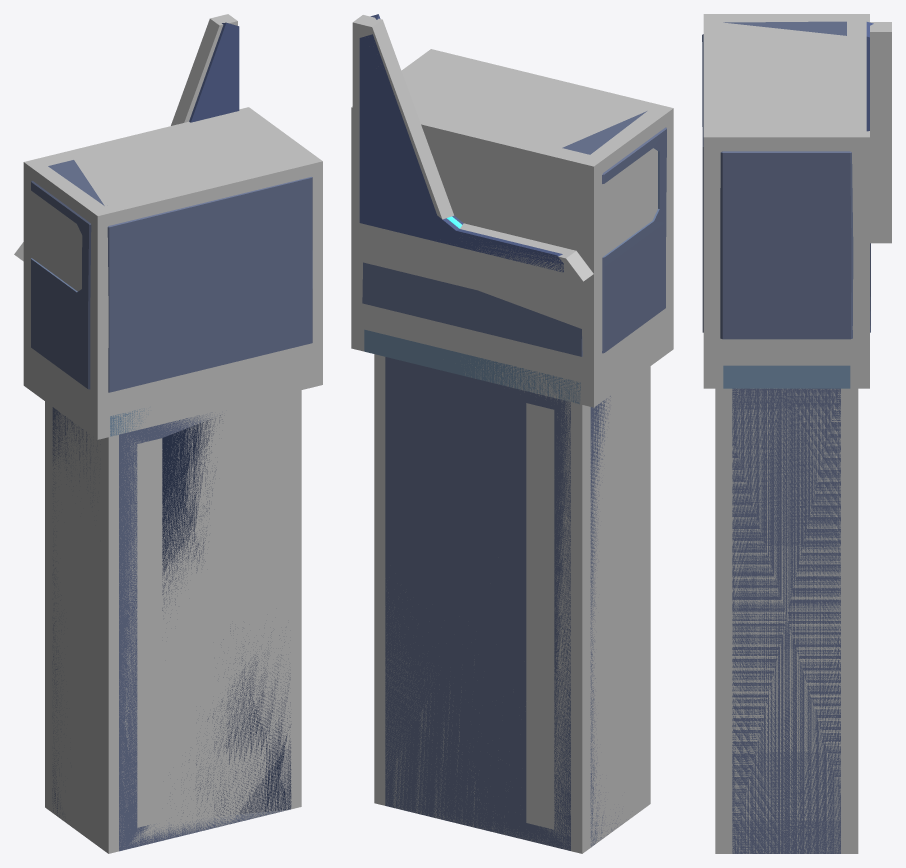
The model's file is SM_Building_18_Top.fbx.
3 views of the same model, side by side, from view 1: azimuth 30°, elevation 25°; view 2: azimuth 150°, elevation 25°; view 3: azimuth 270°, elevation 25° (orthographic). The views are drawn at different scales.
Visible parts, largest first — view 1: SM_Building_18_Top_ConvexHulls, SM_Building_18_Top; view 2: SM_Building_18_Top_ConvexHulls, SM_Building_18_Top; view 3: SM_Building_18_Top_ConvexHulls, SM_Building_18_Top.
Boxes of the visible parts, x1=… form: SM_Building_18_Top_ConvexHulls: x1=14, y1=14, x2=322, y2=853; SM_Building_18_Top: x1=31, y1=22, x2=312, y2=851; SM_Building_18_Top_ConvexHulls: x1=351, y1=15, x2=673, y2=853; SM_Building_18_Top: x1=359, y1=14, x2=666, y2=850; SM_Building_18_Top_ConvexHulls: x1=703, y1=14, x2=891, y2=853; SM_Building_18_Top: x1=702, y1=21, x2=873, y2=853.
Bounding box in the file's own units: 609 × 390 × 1880.
